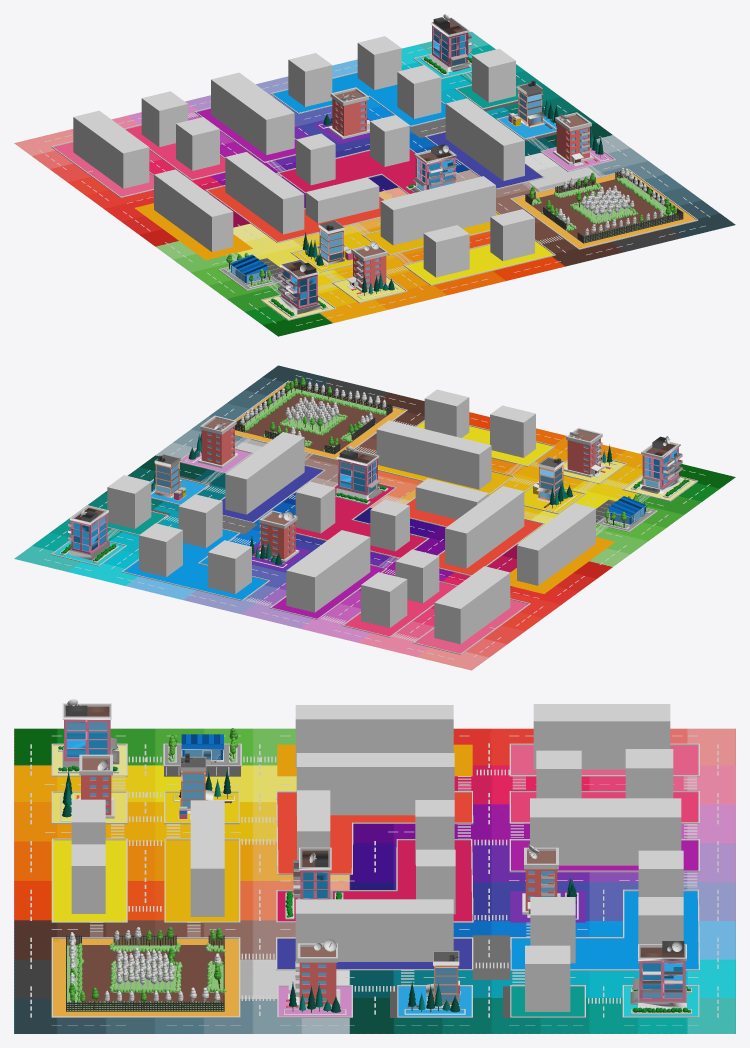
Rendered from city_v2.fbx.
3 renders of one model, top to bottom at view 1: azimuth 30°, elevation 25°; view 2: azimuth 150°, elevation 25°; view 3: azimuth 270°, elevation 25°, orthographic. The views are drawn at different scales.
Visible parts, largest first — view 1: Пол, Walkable, Cube_7, Cube_2, Бордюры, Cube_4, Cube_3, Cube, Cube_10, Cube_1, Cube_9, Cube_11 (+19 smaller); view 2: Пол, Walkable, Cube_7, Cube_2, Бордюры, Cube_4, Cube, Cube_3, Cube_10, Cube_14, Cube_16, Cube_9 (+19 smaller); view 3: Пол, Walkable, Cube_2, Cube_4, Cube, Бордюры, Cube_3, Cube_10, Cube_7, House_8, Cube_16, House_2 (+21 smaller).
Part boxes in pixels (bbox=[...]): Пол: bbox=[14, 31, 735, 336]; Walkable: bbox=[53, 53, 695, 319]; Cube_7: bbox=[380, 176, 495, 245]; Cube_2: bbox=[211, 72, 294, 155]; Бордюры: bbox=[51, 52, 698, 320]; Cube_4: bbox=[445, 98, 524, 180]; Cube_3: bbox=[154, 169, 233, 251]; Cube: bbox=[225, 152, 304, 234]; Cube_10: bbox=[73, 110, 149, 188]; Cube_1: bbox=[305, 177, 379, 223]; Cube_9: bbox=[423, 225, 469, 277]; Cube_11: bbox=[397, 65, 441, 118]; Пол: bbox=[14, 365, 735, 670]; Walkable: bbox=[53, 382, 696, 653]; Cube_7: bbox=[376, 420, 491, 489]; Cube_2: bbox=[286, 530, 370, 612]; Бордюры: bbox=[51, 380, 697, 654]; Cube_4: bbox=[225, 432, 304, 514]; Cube: bbox=[445, 486, 524, 568]; Cube_3: bbox=[517, 503, 595, 585]; Cube_10: bbox=[434, 566, 510, 644]; Cube_14: bbox=[361, 572, 407, 627]; Cube_16: bbox=[107, 475, 151, 528]; Cube_9: bbox=[490, 405, 535, 457]; Пол: bbox=[14, 728, 735, 1033]; Walkable: bbox=[51, 744, 698, 1016]; Cube_2: bbox=[530, 798, 681, 865]; Cube_4: bbox=[295, 899, 453, 961]; Cube: bbox=[296, 753, 454, 815]; Бордюры: bbox=[51, 743, 699, 1017]; Cube_3: bbox=[295, 705, 453, 767]; Cube_10: bbox=[533, 704, 670, 769]; Cube_7: bbox=[190, 800, 224, 916]; House_8: bbox=[630, 941, 686, 1009]; Cube_16: bbox=[525, 945, 570, 1011]; House_2: bbox=[62, 703, 119, 767].
Bounding box in the file's own units: 6400 × 645 × 6400.
1 material, 1 textured.
